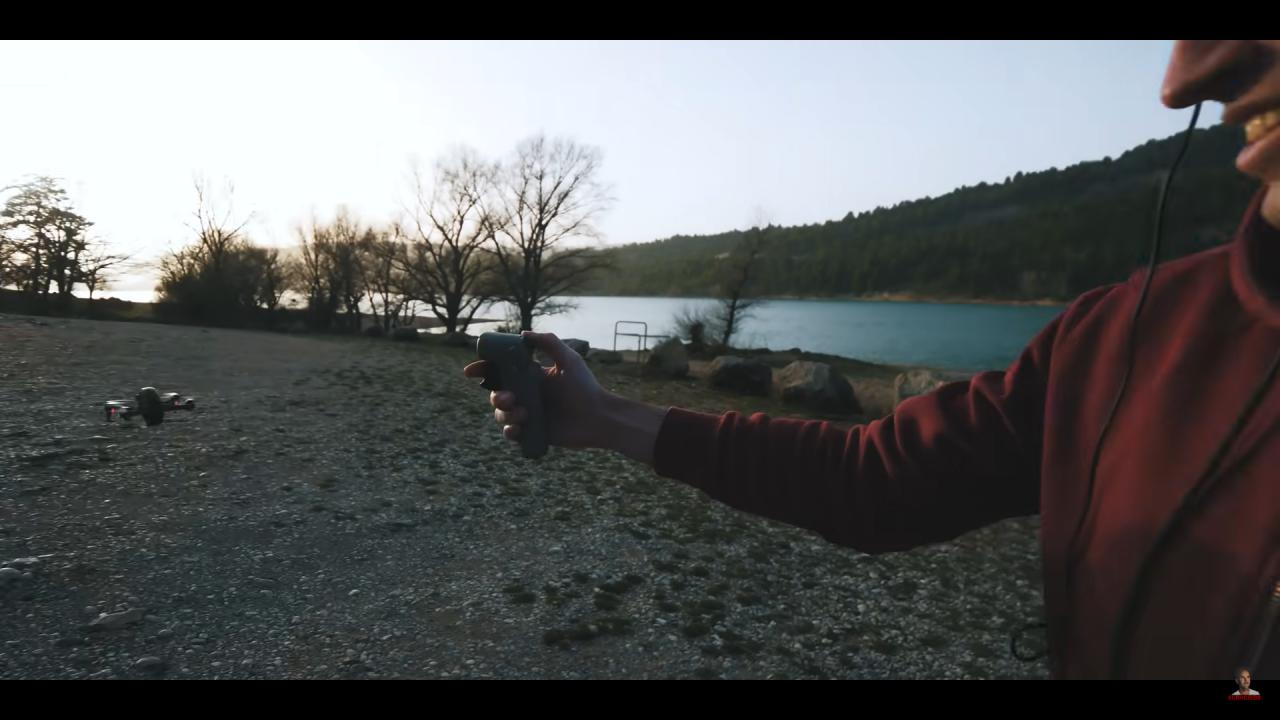Drone: (97, 376, 207, 438)
